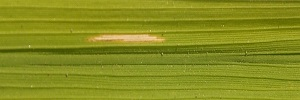RiceBacterialBlight: (82, 29, 169, 47)
